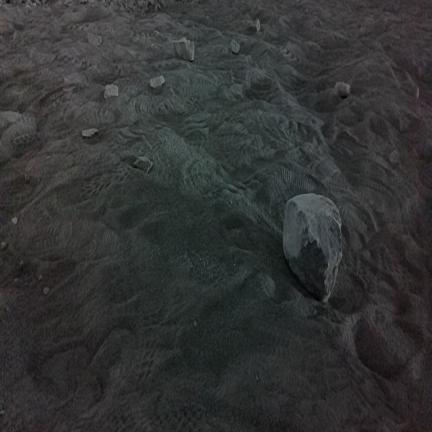Rock: (283, 194, 342, 302), (173, 37, 194, 61), (134, 157, 152, 173), (335, 82, 350, 98), (149, 75, 165, 88), (104, 85, 118, 98), (88, 33, 101, 46), (388, 150, 400, 164), (82, 128, 98, 138), (250, 18, 260, 32), (230, 40, 239, 53), (11, 217, 18, 225), (0, 242, 7, 250), (44, 287, 49, 294)
